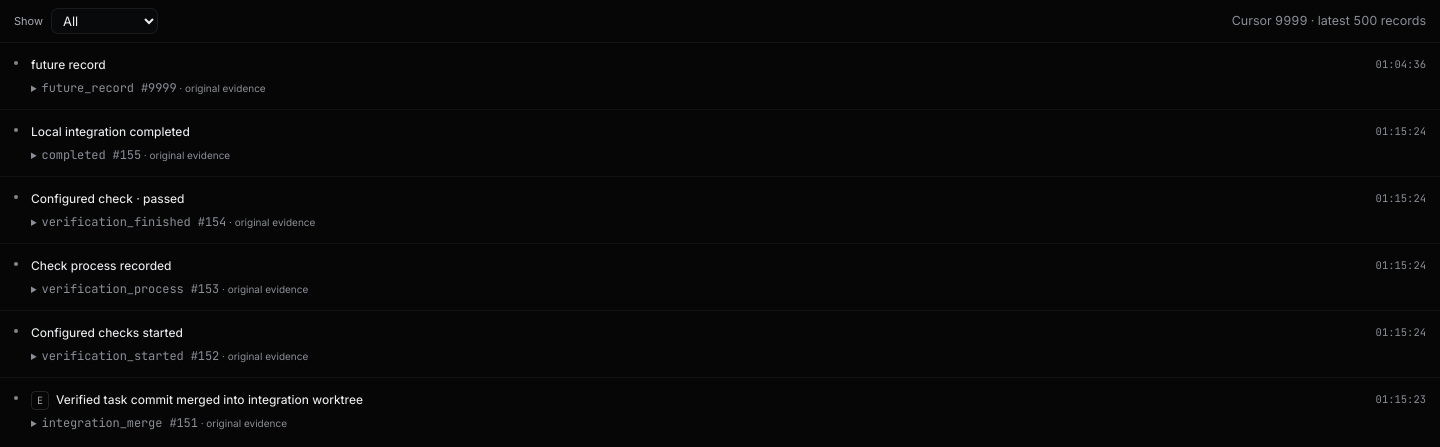
Scenario: execution interaction and history › translates known kinds, preserves original evidence and has a humanized unknown fallback
Check: the text "future record" is shown, box [31,57,106,72]
Check: the text "future_record #9999" is shown, box [42,80,176,96]
Step 1. Select "Problems" in the dropdown named "Journal filter" → [104, 21], box [51,8,158,34]
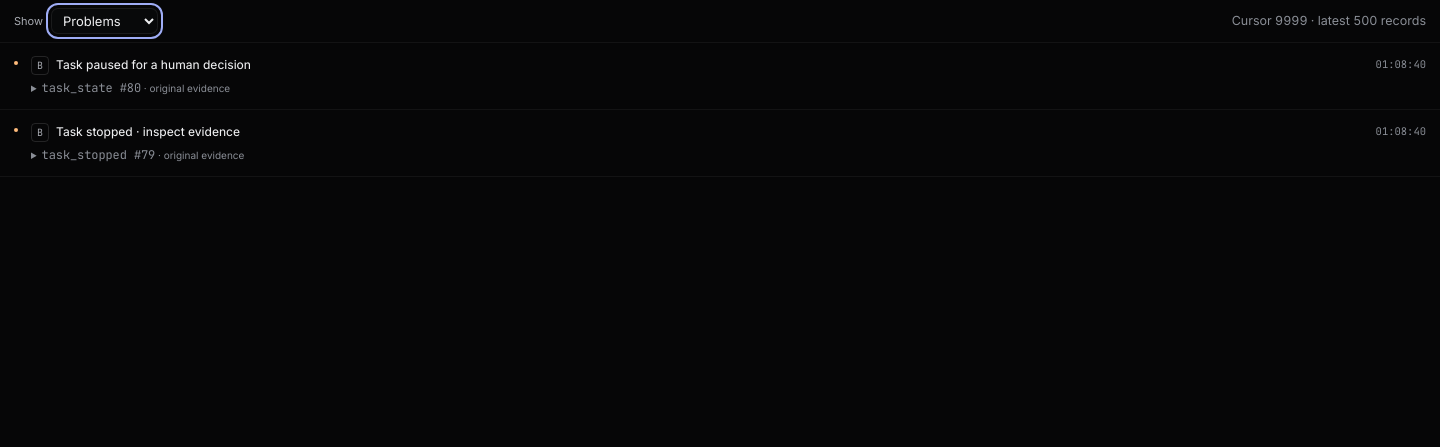
Check: the text "future record" is gone
Check: the text "Task stopped · inspect evidence" is shown, box [56,124,240,139]
